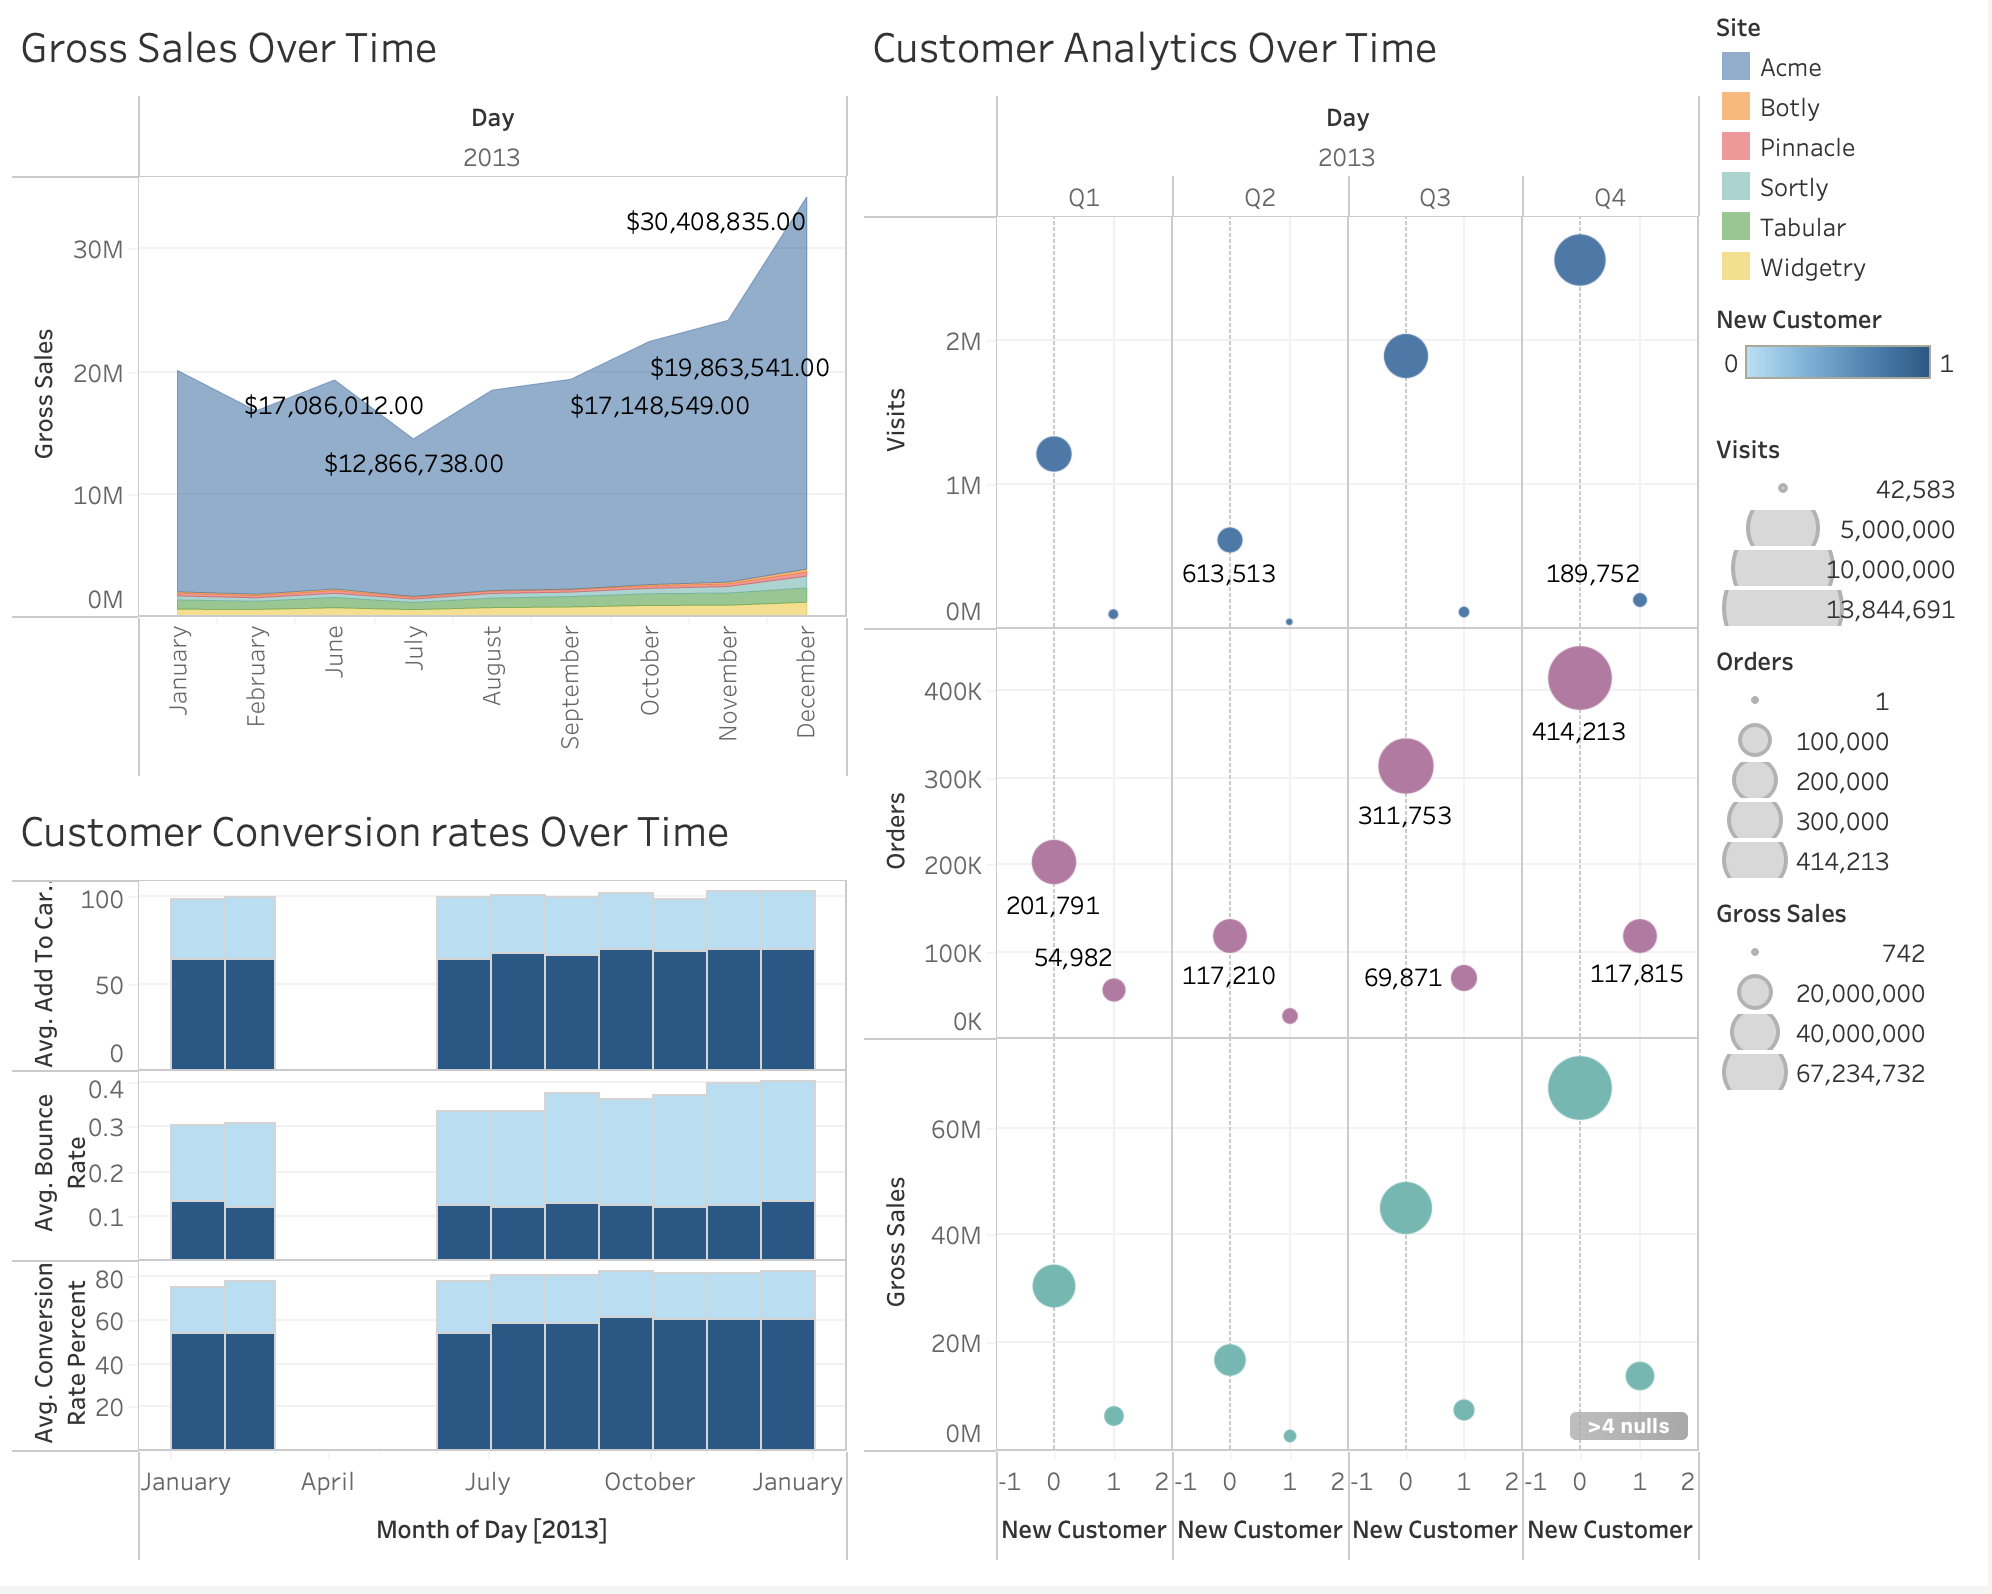

This screenshot's page, from the dashboard's own definition file:
{"tool":"tableau","page":{"name":"Dashboard 2","canvas":[1000,800],"ordinal":1},"visuals":[{"type":"worksheet","title":"Gross Sales Over Time","mark":"Area","rows":["gross_sales"],"cols":["day","day"],"box":[8,8,426,392]},{"type":"worksheet","title":"Customer Analytics Over Time","mark":"Circle","rows":["visits","orders","gross_sales"],"cols":["day","day","new_customer"],"box":[434,8,426,784]},{"type":"legend","title":"Gross Sales Over Time","param":"[federated.0oz0gj705qatrt1aypaw313tw9mm].[none:site:nk]","box":[860,8,132,146]},{"type":"legend","title":"Customer Conversion rates Over Time","param":"[federated.0oz0gj705qatrt1aypaw313tw9mm].[none:new_customer:qk]","box":[860,154,132,65]},{"type":"legend","title":"Customer Analytics Over Time","param":"[federated.0oz0gj705qatrt1aypaw313tw9mm].[sum:visits:qk]","box":[860,219,132,106]},{"type":"legend","title":"Customer Analytics Over Time","param":"[federated.0oz0gj705qatrt1aypaw313tw9mm].[sum:orders:qk]","box":[860,325,132,126]},{"type":"worksheet","title":"Customer Conversion rates Over Time","mark":"Bar","rows":["Calculation_1326450836930113539","Calculation_1326450836929613825","Calculation_1326450836933255173"],"cols":["day"],"box":[8,400,426,392]},{"type":"legend","title":"Customer Analytics Over Time","param":"[federated.0oz0gj705qatrt1aypaw313tw9mm].[sum:gross_sales:qk]","box":[860,451,132,106]}]}

Visuals, with their boxes in screenshot pixels (x1, y1, x2, y2), scaled from the page's 1000x800 canvas onto the 1992x1594 screenshot:
"Gross Sales Over Time" worksheet (Area marks): left=16, top=16, right=865, bottom=797
"Customer Analytics Over Time" worksheet (Circle marks): left=865, top=16, right=1713, bottom=1578
"Gross Sales Over Time" legend: left=1713, top=16, right=1976, bottom=307
"Customer Conversion rates Over Time" legend: left=1713, top=307, right=1976, bottom=436
"Customer Analytics Over Time" legend: left=1713, top=436, right=1976, bottom=648
"Customer Analytics Over Time" legend: left=1713, top=648, right=1976, bottom=899
"Customer Conversion rates Over Time" worksheet (Bar marks): left=16, top=797, right=865, bottom=1578
"Customer Analytics Over Time" legend: left=1713, top=899, right=1976, bottom=1110
